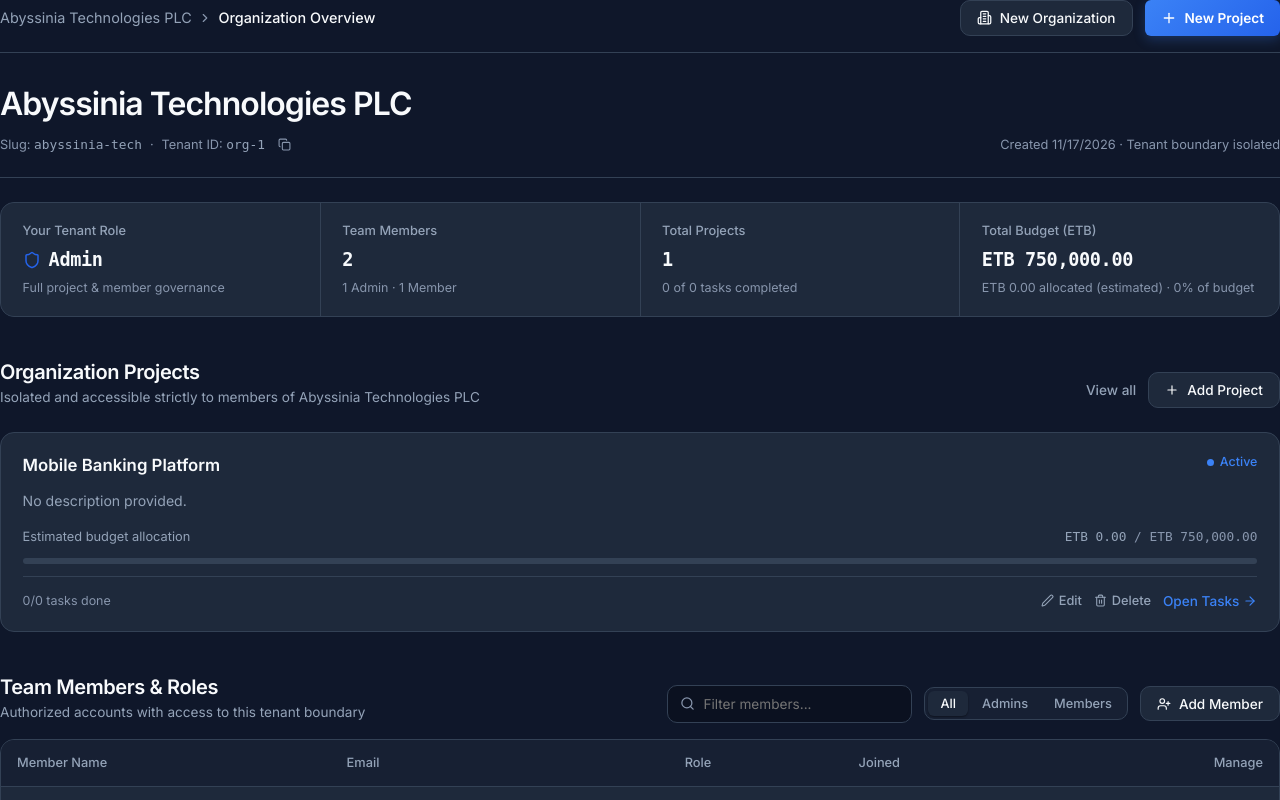
Edit project description › shows an empty field for a project without a description, and a blank value stays blank
This screenshot has width=1280, height=800.
Later steps or results of the test are not shown.
Expected: the heading "Organization Projects" is shown, x1=0 y1=360 x2=200 y2=384
Expected: the heading "Mobile Banking Platform" is shown, x1=23 y1=453 x2=220 y2=478
Click the button with aria-label "Edit project Mobile Banking Platform": (1061, 601) x1=1041 y1=594 x2=1082 y2=608
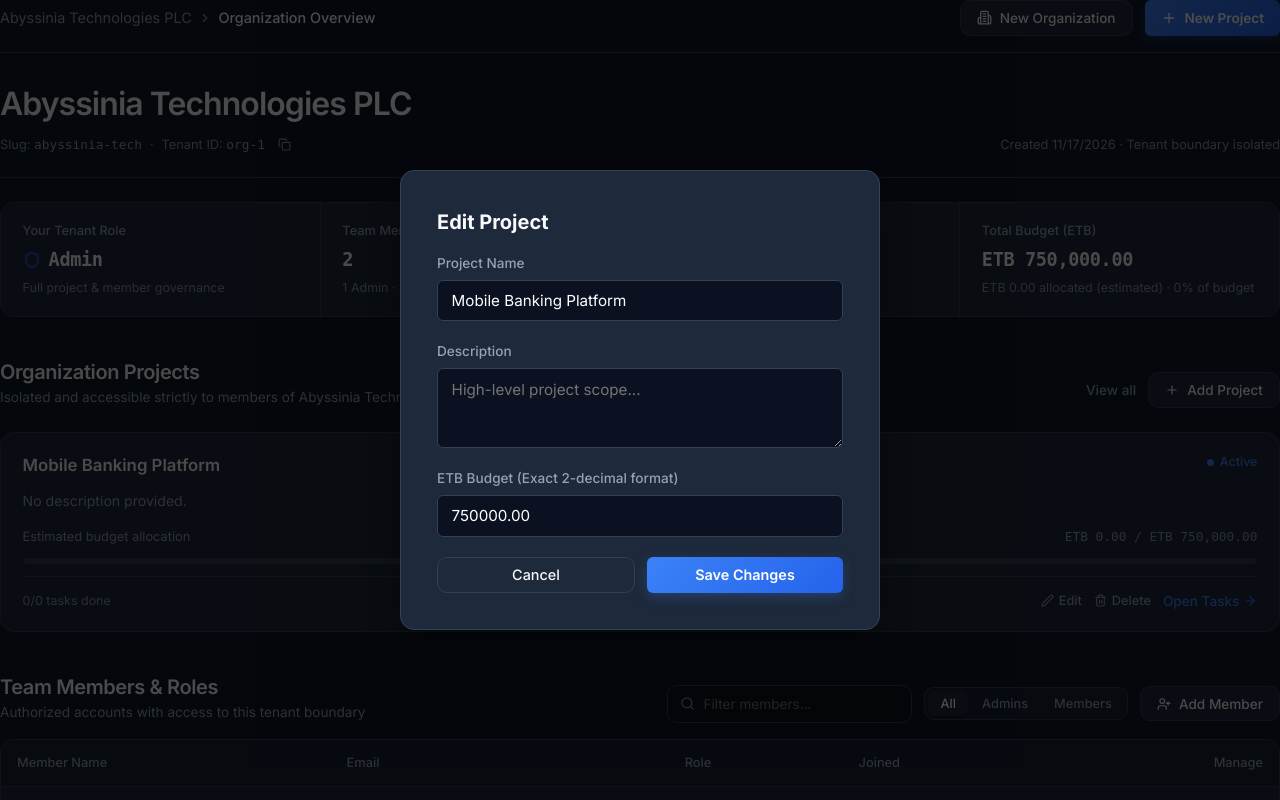
Now the text box labelled "Description" is empty, box x1=437 y1=368 x2=843 y2=448
